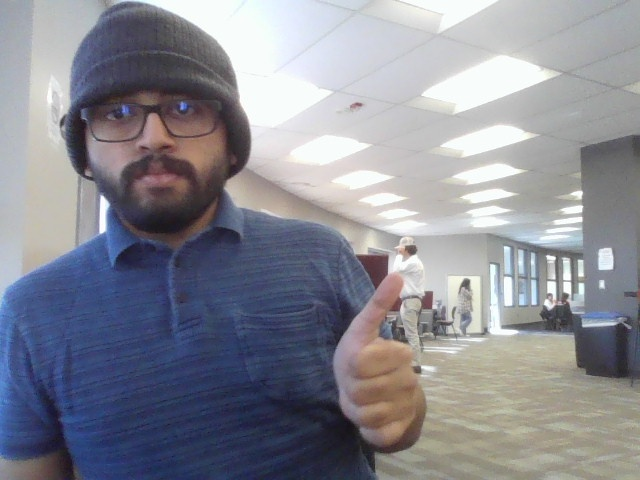start: (331, 269, 442, 451)
